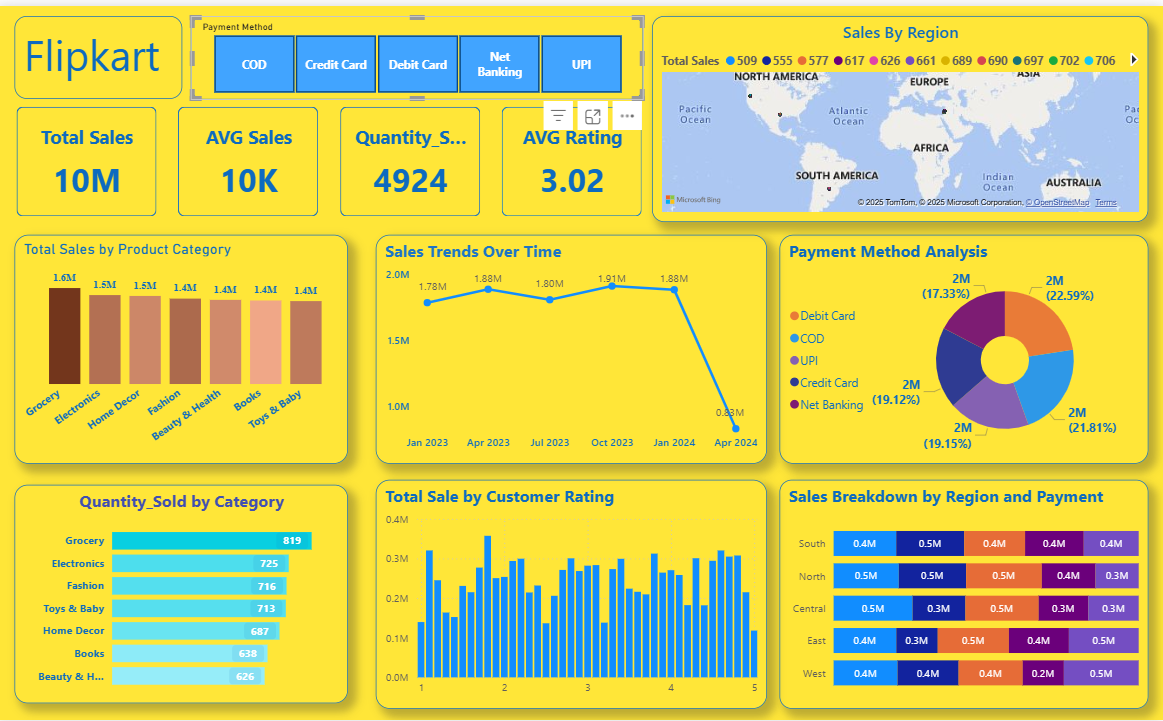

This screenshot's page, from the dashboard's own definition file:
{"tool":"powerbi","page":{"name":"Page 1","canvas":[1340,820],"ordinal":0},"visuals":[{"type":"cardVisual","fields":{"Data":["Order ID (Sheet1).Total Sales","Order ID (Sheet1).AVG Sales","Order ID (Sheet1).Quantity_Sold","Sheet1.AVG Rating"]},"box":[0,93.2,764.9,170.1],"z":0},{"type":"map","title":"Sales By Region","fields":{"Category":["Order ID (Sheet1).Region"],"Series":["Order ID (Sheet1).Sales Amount"]},"box":[752.7,11.5,570.3,237],"z":1000},{"type":"clusteredColumnChart","fields":{"Category":["Order ID (Sheet1).Product Category"],"Y":["Order ID (Sheet1).Total Sales"]},"box":[20.7,263.3,383.2,263.3],"z":2000},{"type":"clusteredBarChart","title":"Quantity_Sold by Category","fields":{"Y":["Order ID (Sheet1).Quantity_Sold"],"Category":["Order ID (Sheet1).Product Category"]},"box":[20.7,550.3,383.2,251.5],"z":3000},{"type":"clusteredColumnChart","fields":{"Category":["Sheet1.Customer Rating"],"Y":["Sheet1.Total Sale"]},"box":[435.3,544.4,449.6,262.9],"z":4000},{"type":"lineChart","title":"Sales Trends Over  Time","fields":{"Category":["Sheet1.Order Date.Variation.Date Hierarchy.Year","Sheet1.Order Date.Variation.Date Hierarchy.Quarter","Sheet1.Order Date.Variation.Date Hierarchy.Month","Sheet1.Order Date.Variation.Date Hierarchy.Day"],"Y":["Sheet1.Total Sale"]},"box":[435.3,262.9,449.6,262.9],"z":5000},{"type":"donutChart","title":" Payment Method Analysis","fields":{"Category":["Sheet1.Payment Method"],"Y":["Sheet1.Total Sale"]},"box":[899.3,262.9,423.8,262.9],"z":6000},{"type":"hundredPercentStackedBarChart","title":"Sales Breakdown by Region and Payment","fields":{"Category":["Sheet1.Region"],"Y":["Sheet1.Total Sale"],"Series":["Sheet1.Payment Method"]},"box":[899,544,424,263],"z":7000},{"type":"slicer","fields":{"Values":["Sheet1.Payment Method"]},"box":[222.7,11.5,520,96.2],"z":8000},{"type":"textbox","box":[20.1,11.5,192.5,94.8],"z":9000}]}

Visuals, with their boxes in screenshot pixels (x1, y1, x2, y2), scaled from the page's 1340x820 canvas onto the 1163x721 screenshot:
cardVisual - Order ID (Sheet1).Total Sales x Order ID (Sheet1).AVG Sales: <bbox>0, 82, 664, 232</bbox>
"Sales By Region" map: <bbox>653, 10, 1148, 218</bbox>
clusteredColumnChart - Order ID (Sheet1).Product Category x Order ID (Sheet1).Total Sales: <bbox>18, 232, 351, 463</bbox>
"Quantity_Sold by Category" clusteredBarChart: <bbox>18, 484, 351, 705</bbox>
clusteredColumnChart - Sheet1.Customer Rating x Sheet1.Total Sale: <bbox>378, 479, 768, 710</bbox>
"Sales Trends Over  Time" lineChart: <bbox>378, 231, 768, 462</bbox>
" Payment Method Analysis" donutChart: <bbox>781, 231, 1148, 462</bbox>
"Sales Breakdown by Region and Payment" hundredPercentStackedBarChart: <bbox>780, 478, 1148, 710</bbox>
slicer - Sheet1.Payment Method: <bbox>193, 10, 645, 95</bbox>
textbox: <bbox>17, 10, 185, 93</bbox>
